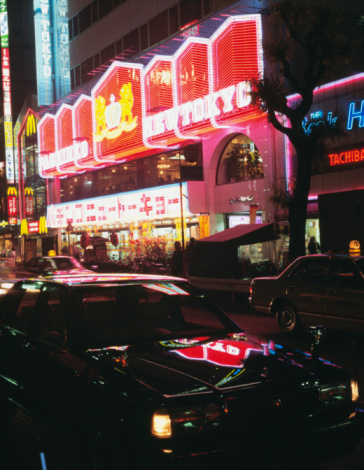car: (246, 240, 363, 342)
